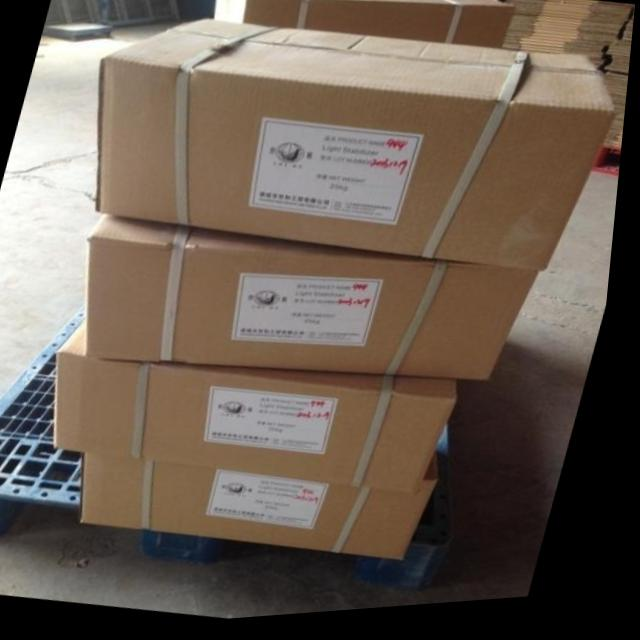box: (99, 22, 617, 280), (93, 216, 546, 388), (63, 318, 466, 501), (88, 455, 448, 568), (213, 0, 516, 57)
